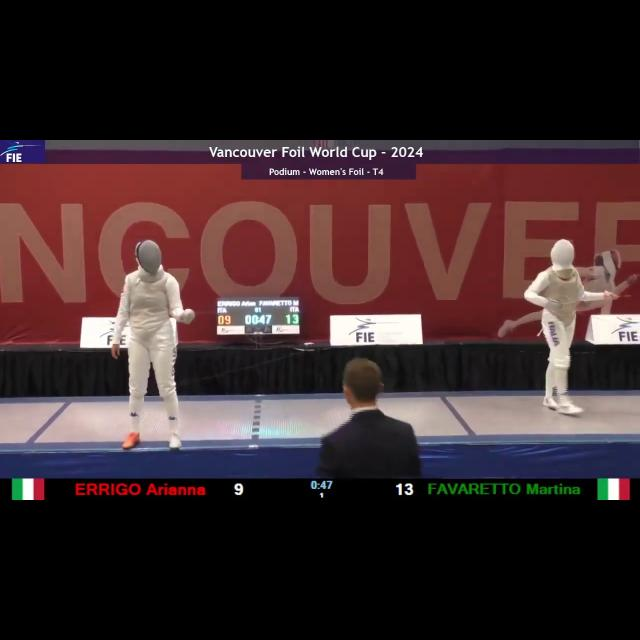blade: (556, 291, 632, 309)
